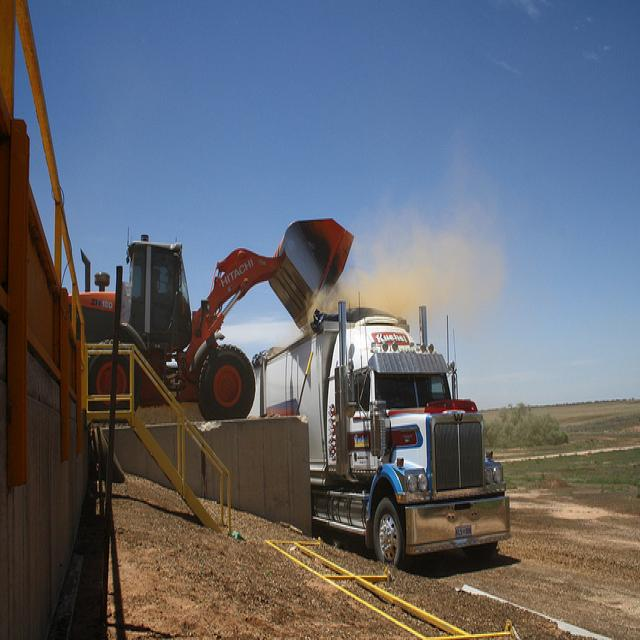Vehicle: (247, 300, 513, 570), (76, 216, 353, 420)
